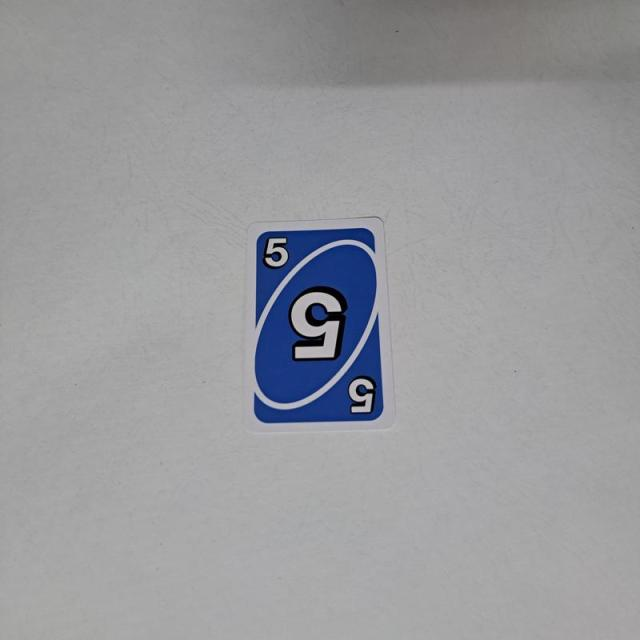Blue_Card: (252, 226, 388, 427)
Number_5: (262, 231, 293, 273)
